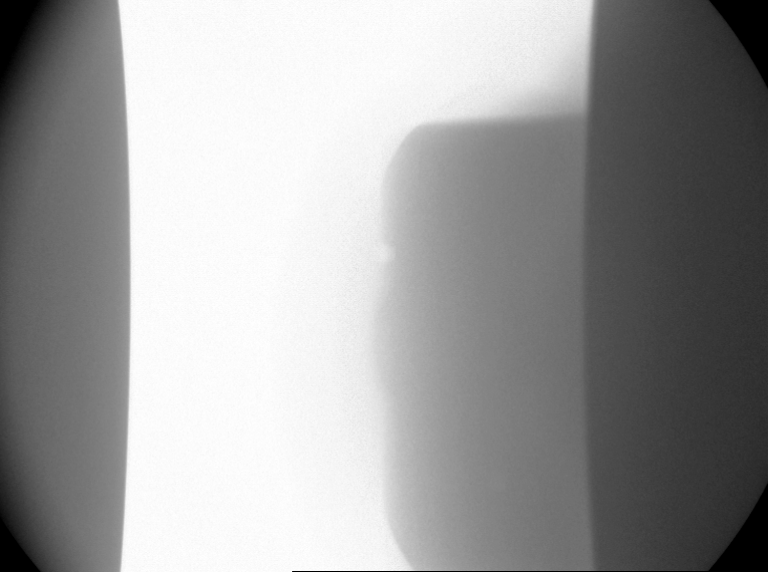defect: (373, 238, 399, 266)
